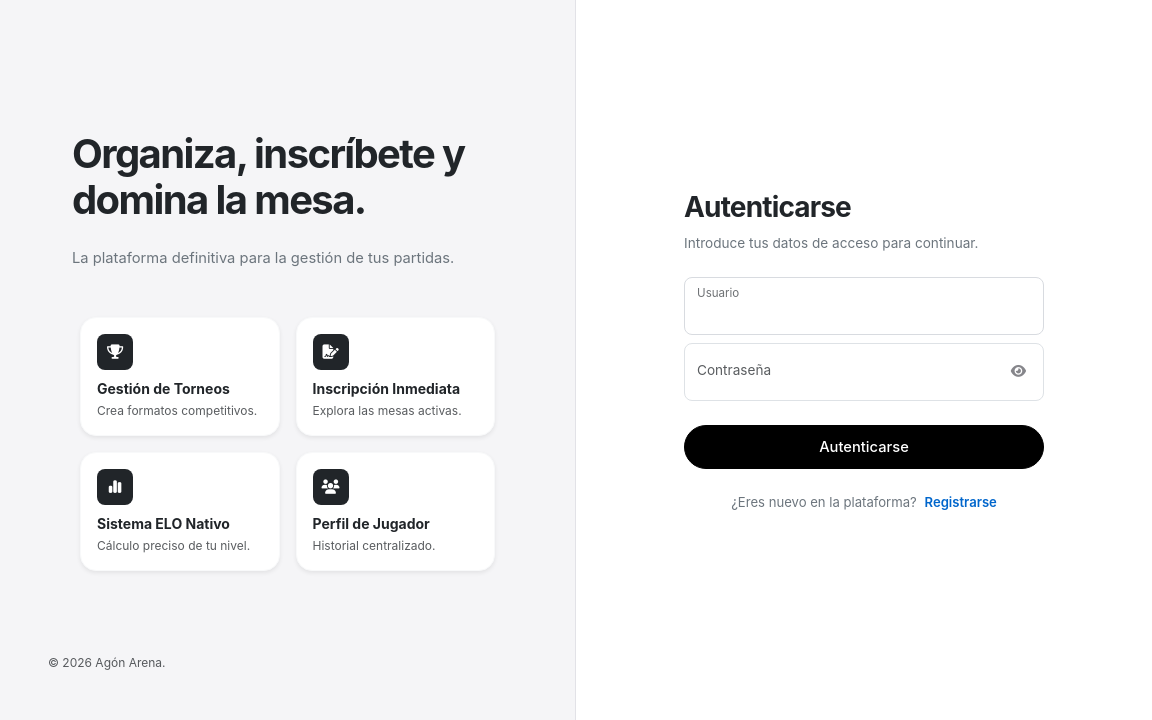
Login › muestra el error del backend si el login falla
The width and height of the screenshot is (1152, 720).
Type "ana" into the field with placeholder "Usuario" at x=864, y=306, box [684,277,1044,335]
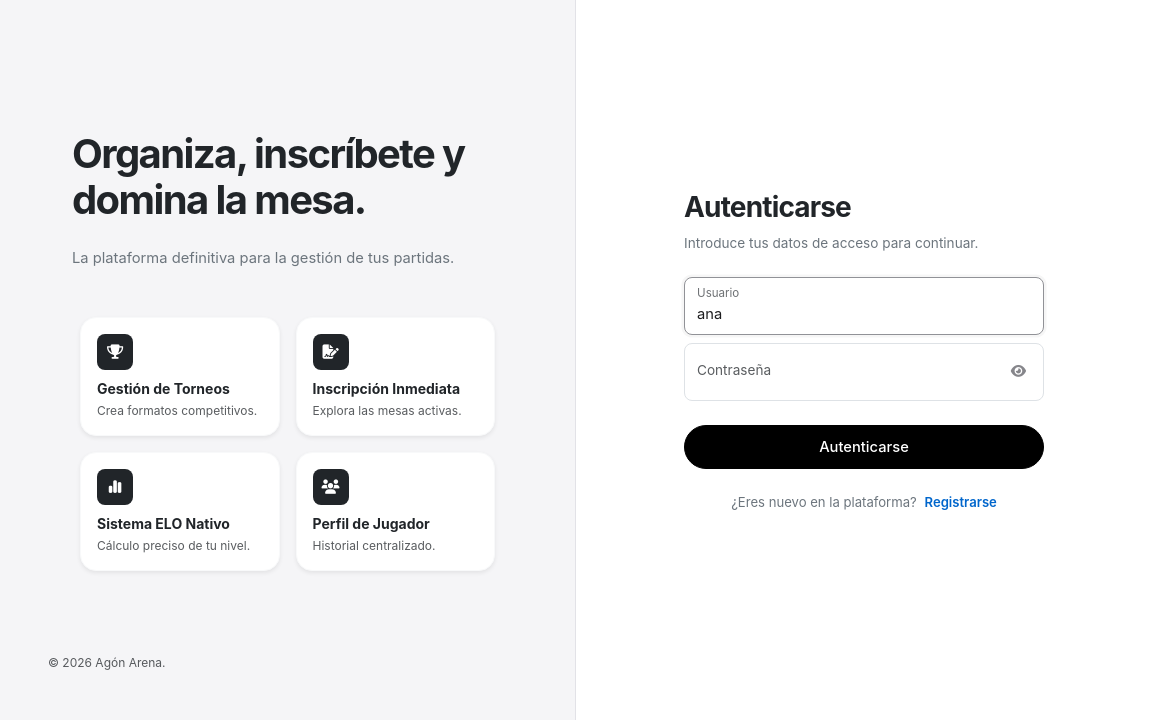
Type "mala" into the password field with placeholder "Contraseña" at x=864, y=372, box [684,343,1044,401]
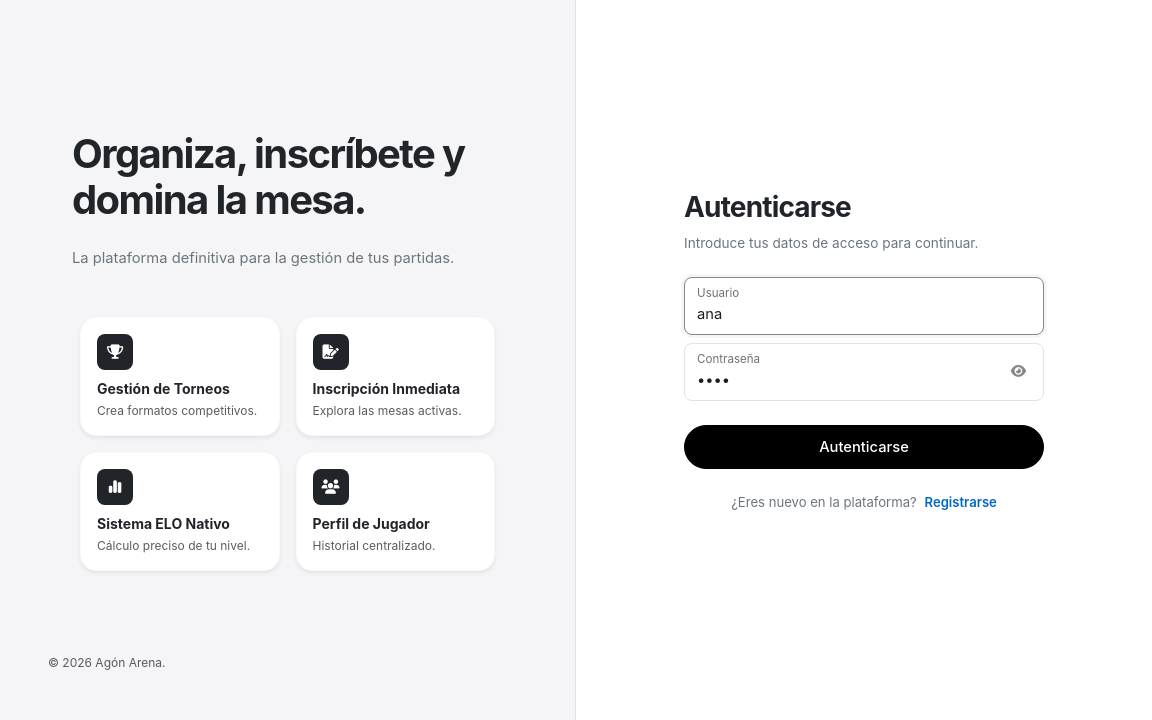
Submit the form, box [684,277,1044,469]
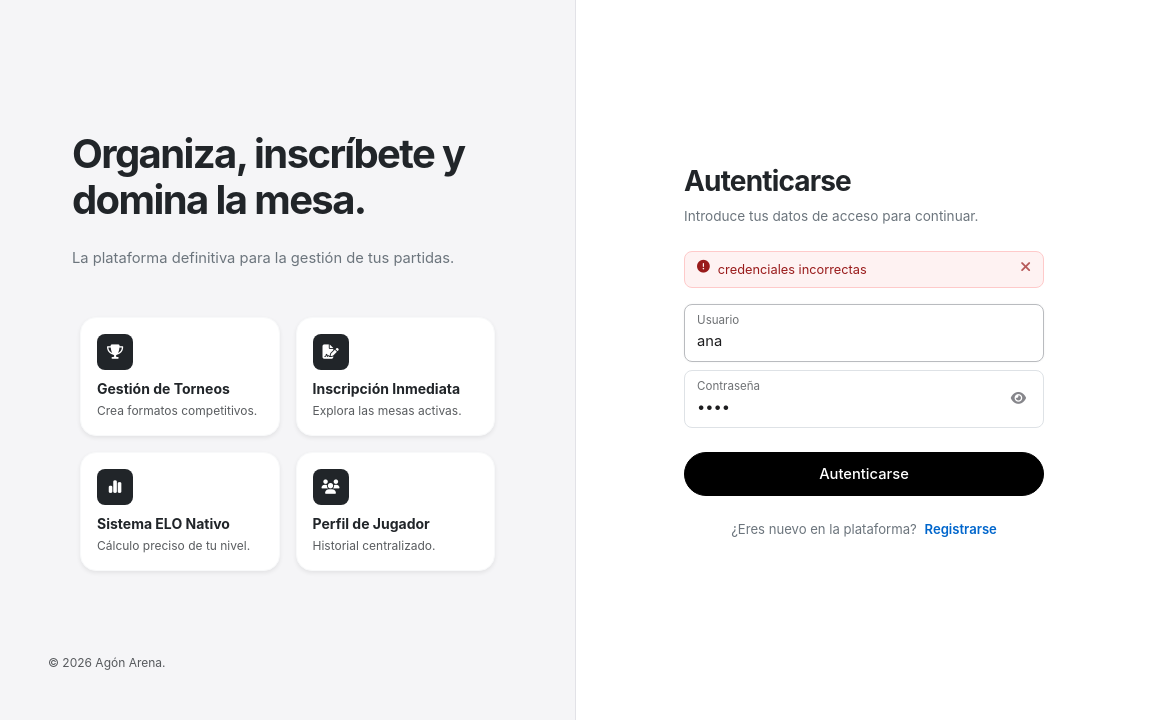
Result: the text "credenciales incorrectas" is shown at [718,262,867,276]
